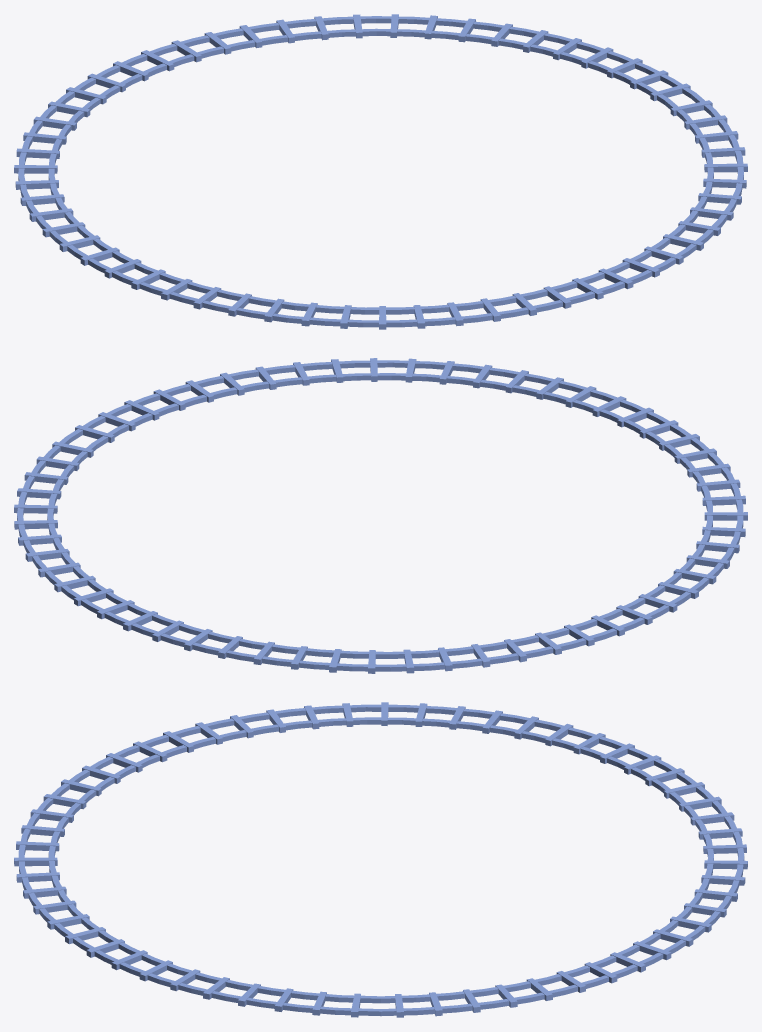
Rendered from choochooRail.glb.
3 renders of one model, top to bottom at view 1: azimuth 30°, elevation 25°; view 2: azimuth 150°, elevation 25°; view 3: azimuth 270°, elevation 25°, orthographic.
Visible parts, largest first — view 1: Track visual; view 2: Track visual; view 3: Track visual.
Boxes of the visible parts, x1,y1,x2,y2 form: Track visual: [14, 14, 747, 329]; Track visual: [14, 358, 747, 673]; Track visual: [14, 702, 747, 1017].
Size of the model in its own units: 65.53 by 0.5389 by 65.57.
